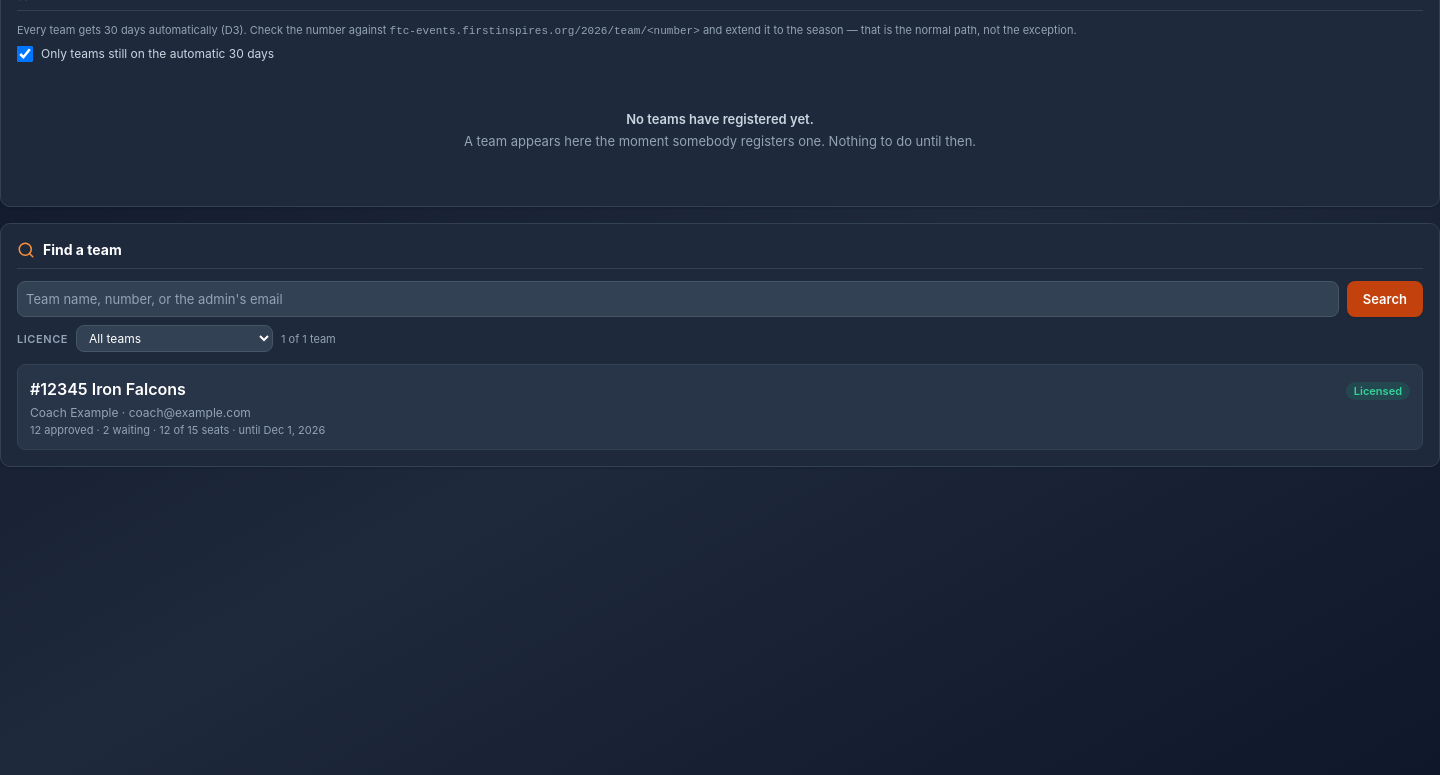
Test case: acting on the selected team › asks before revoking everything, and says nothing is deleted
The width and height of the screenshot is (1440, 775).
Click the text "#12345 Iron Falcons" at coordinates (108, 389), box [30, 377, 186, 401]
(page scrolled)
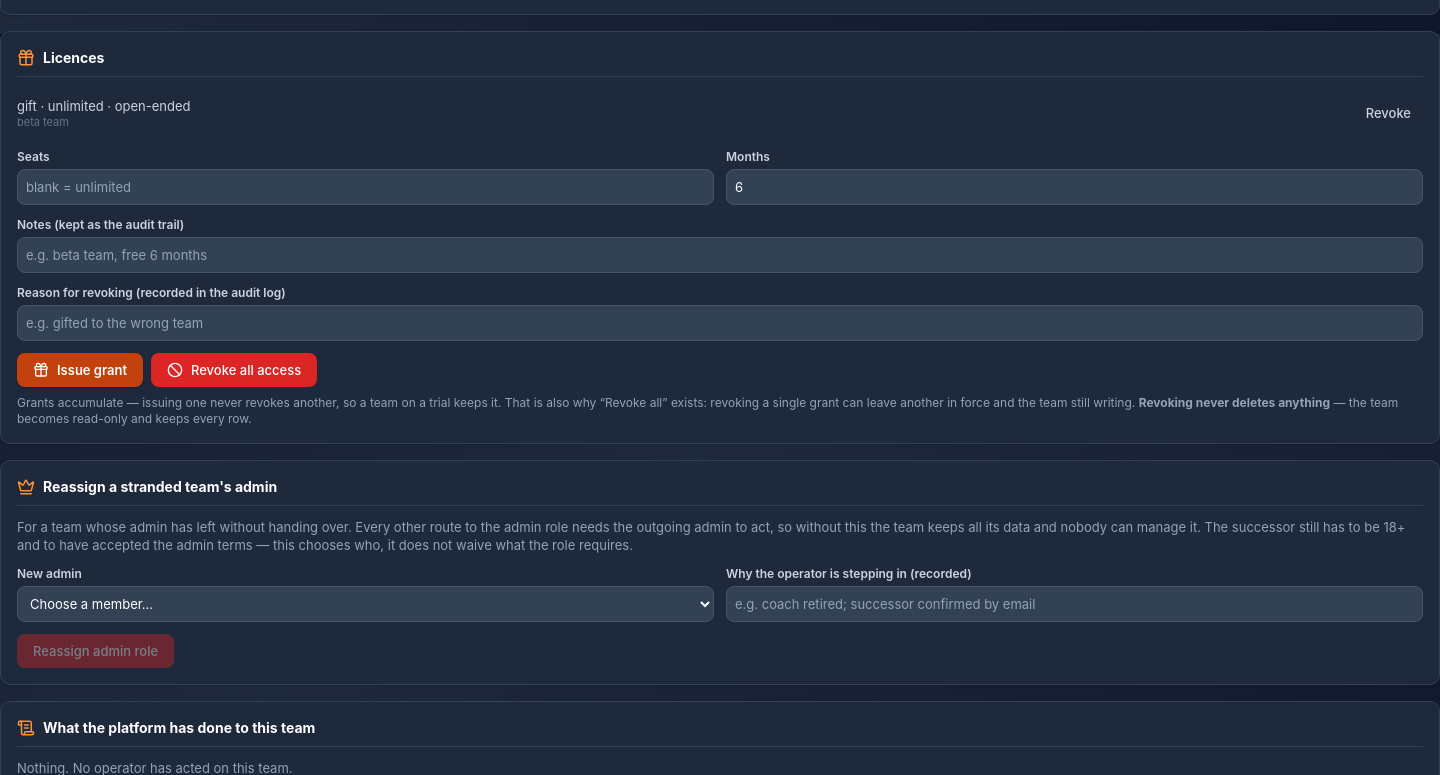
Click the button with test id "revoke-all" at coordinates (234, 370), box [151, 353, 317, 387]
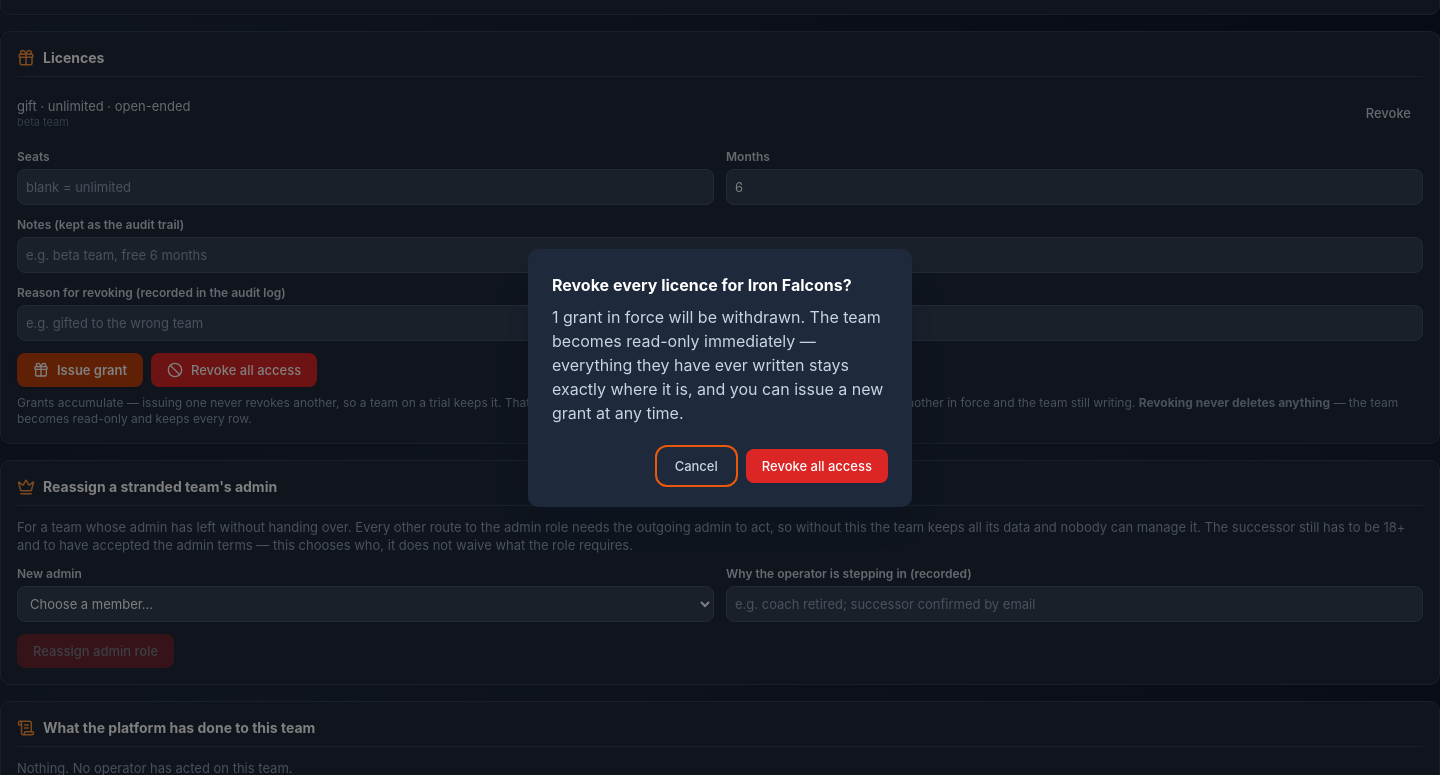
Result: the heading "Revoke every licence for Iron Falcons?" is shown at [552, 273, 888, 297]
Result: the text "stays exactly where it is" is shown at [552, 307, 883, 423]
